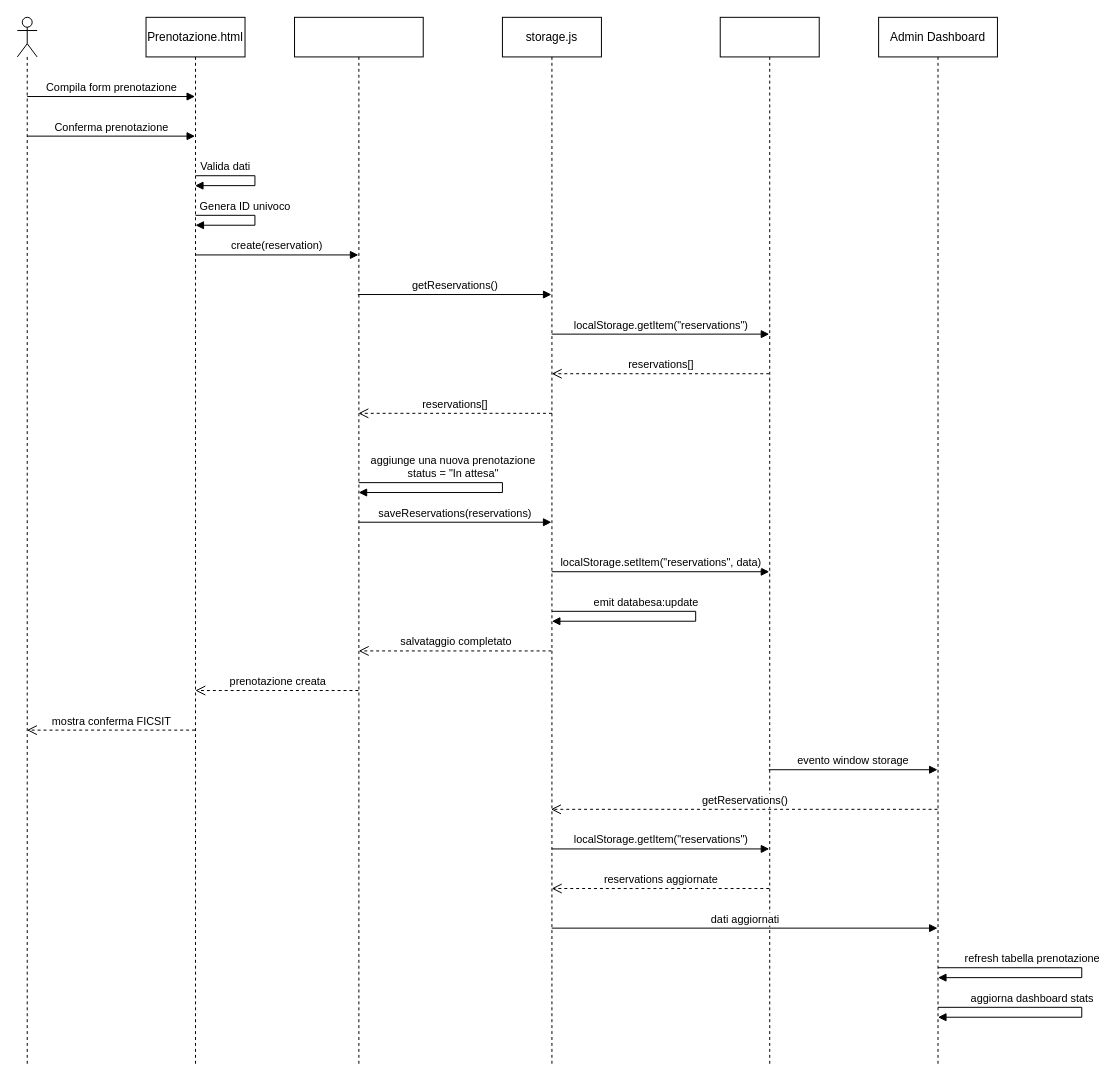
This 1117x1084 diagram has some shape labels left out. The shapes that lost their labels are listed below. From the top down, each one's box as (x1, y1, x2, y2) in pixels, then its label:
(294, 16, 423, 1067): ReservationRepository
(719, 16, 819, 1067): Local Storage
